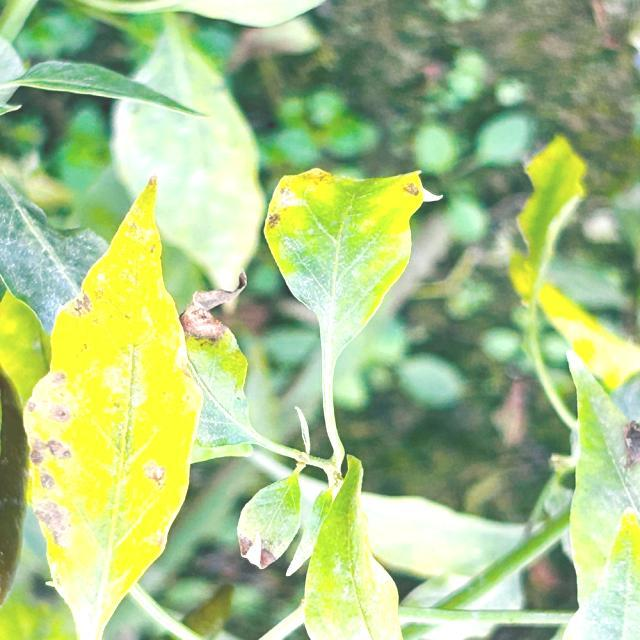Bercak Daun Serkospora: (21, 175, 204, 640)
